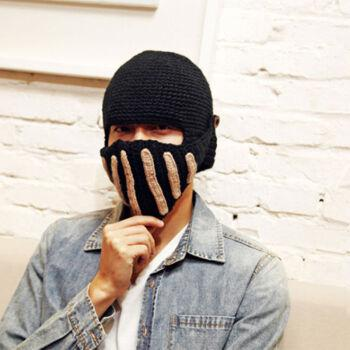OK: (105, 104, 203, 211)
